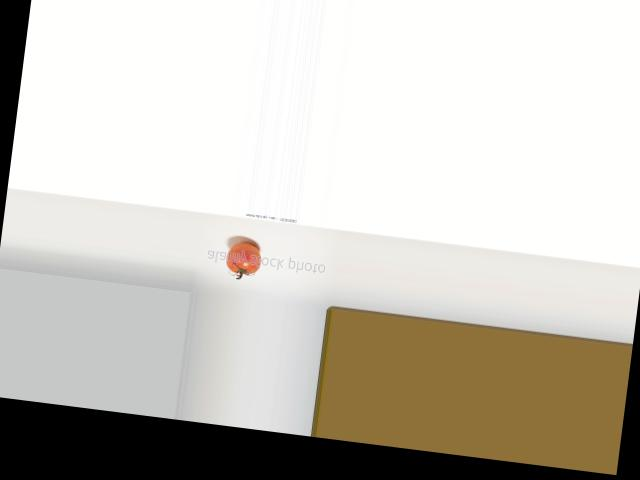tomato: (225, 240, 263, 276)
